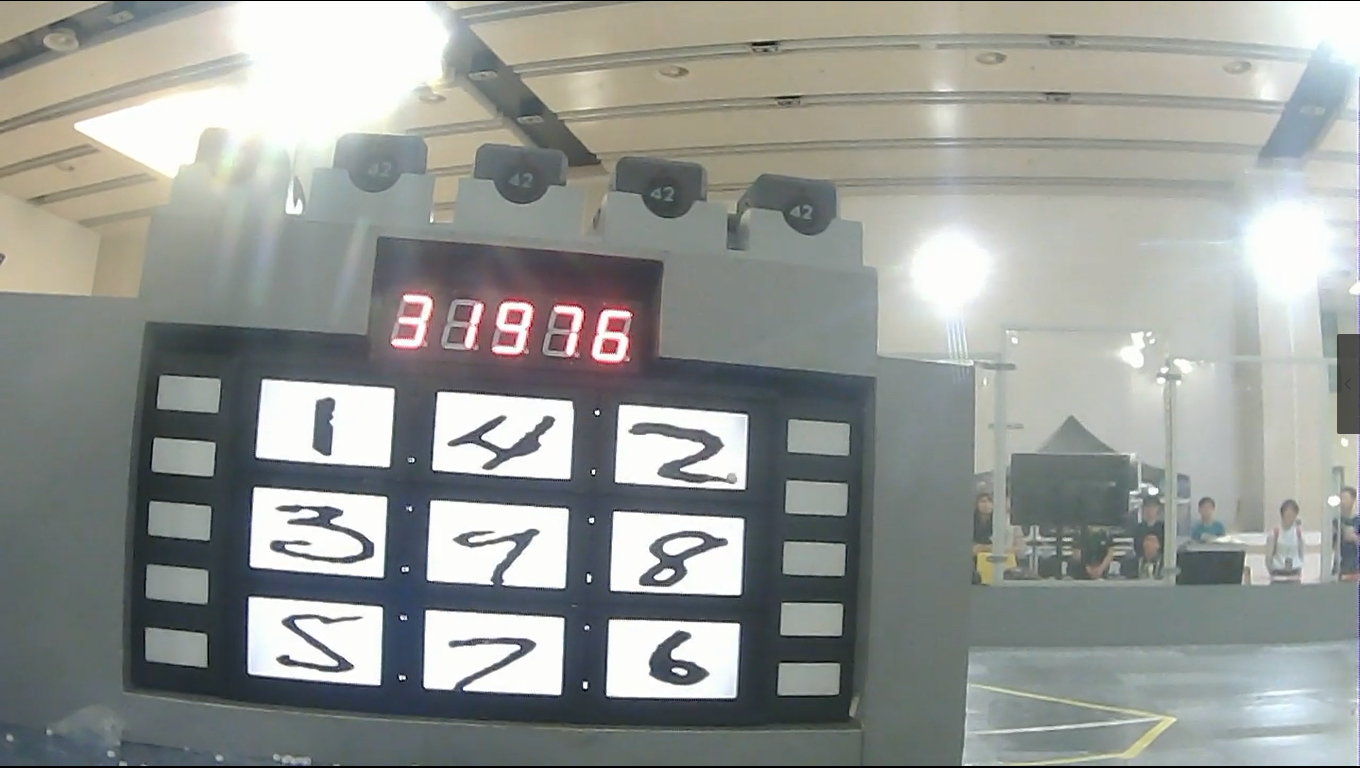box: (602, 156, 713, 224), (731, 177, 846, 242), (328, 129, 441, 195), (183, 124, 293, 188), (469, 142, 575, 205)
